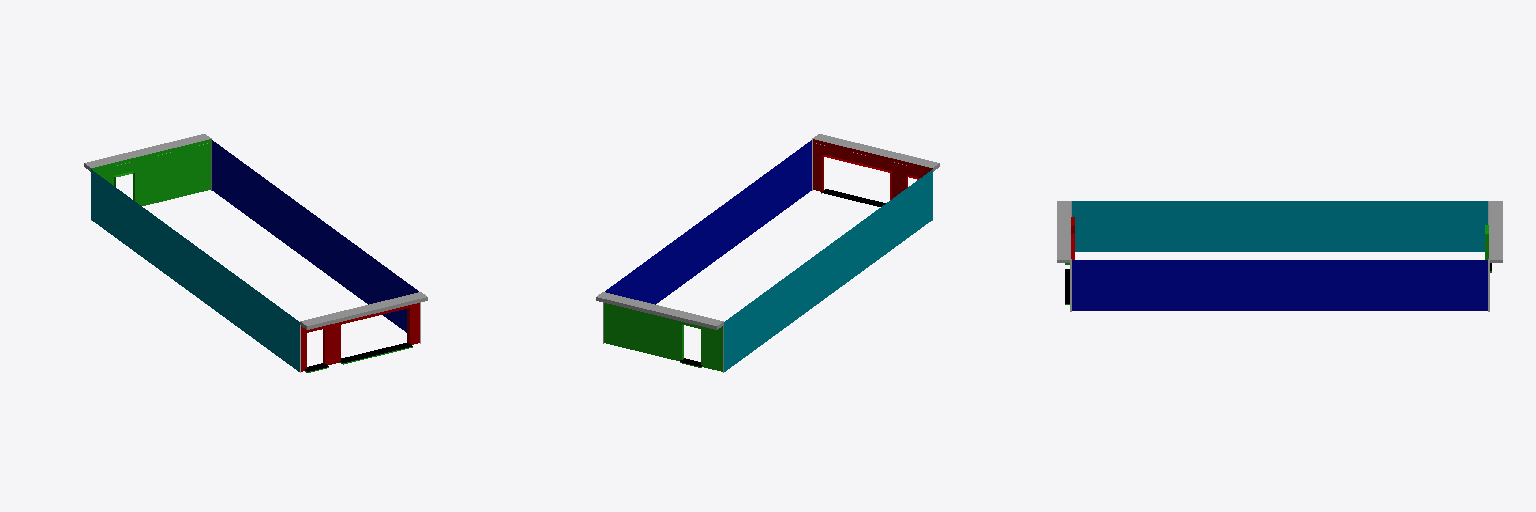
File: Buildings02_gorundfloor.obj
The picture shows the model from 3 angles: view 1: azimuth 30°, elevation 25°; view 2: azimuth 150°, elevation 25°; view 3: azimuth 270°, elevation 25°; orthographic projection.
Parts seen in each view (by area): view 1: terrio_Cube, Cube.002_Cube.004; view 2: terrio_Cube, Cube.002_Cube.004; view 3: terrio_Cube, Cube.002_Cube.004.
Boxes of the visible parts, x1,y1,x2,y2 form: terrio_Cube: [91, 139, 419, 372]; Cube.002_Cube.004: [84, 134, 427, 329]; terrio_Cube: [604, 139, 932, 371]; Cube.002_Cube.004: [596, 134, 939, 329]; terrio_Cube: [1065, 201, 1491, 310]; Cube.002_Cube.004: [1057, 201, 1502, 262].
Size of the model in its own units: 10.01 by 4.11 by 31.97.